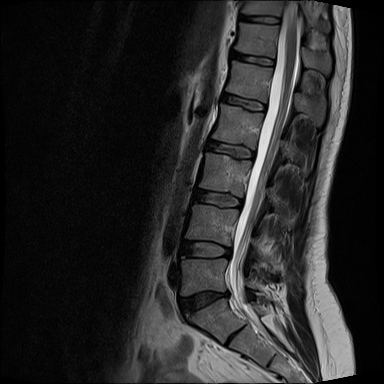Lumbar Disc Bulge (LDB): (170, 280, 234, 324), (174, 239, 236, 265)
Normal IVD: (200, 135, 263, 162), (187, 186, 250, 211), (213, 90, 273, 114), (224, 47, 278, 70), (234, 10, 285, 26)
Spinal Stenosis (SS): (215, 271, 237, 311), (218, 237, 241, 267)
